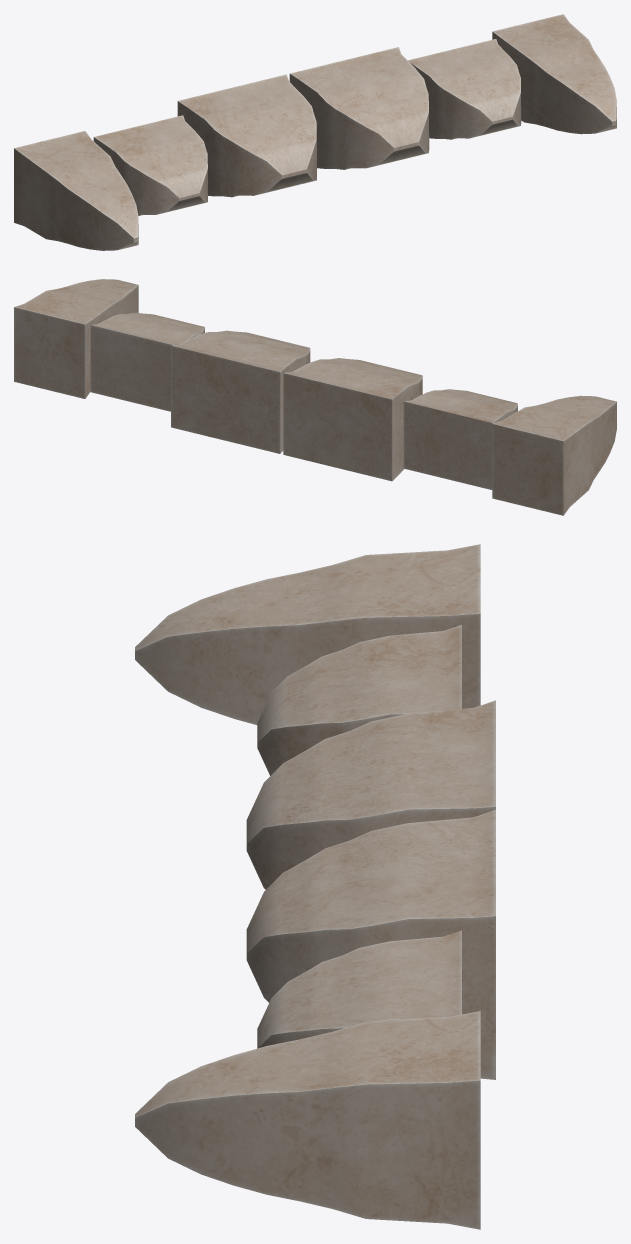
Rendered from ITM_DEFENSIVE_VAMPIRE TEETHS.fbx.
3 views of the same model, one above another, from view 1: azimuth 30°, elevation 25°; view 2: azimuth 150°, elevation 25°; view 3: azimuth 270°, elevation 25° (orthographic). The views are drawn at different scales.
Visible parts, largest first — view 1: teeth2, teeth1, fang, fang1, teeth3, teeth; view 2: teeth1, teeth2, fang, fang1, teeth, teeth3; view 3: fang1, fang, teeth2, teeth1, teeth, teeth3.
Part boxes in pixels (x1=…): teeth2: x1=289, y1=47, x2=429, y2=169; teeth1: x1=177, y1=74, x2=316, y2=197; fang: x1=14, y1=131, x2=138, y2=250; fang1: x1=492, y1=14, x2=616, y2=134; teeth3: x1=408, y1=39, x2=521, y2=139; teeth: x1=93, y1=115, x2=207, y2=215; teeth1: x1=283, y1=358, x2=422, y2=481; teeth2: x1=171, y1=330, x2=310, y2=453; fang: x1=492, y1=395, x2=616, y2=515; fang1: x1=14, y1=279, x2=138, y2=398; teeth: x1=403, y1=389, x2=517, y2=489; teeth3: x1=90, y1=312, x2=204, y2=411; fang1: x1=135, y1=1011, x2=480, y2=1229; fang: x1=135, y1=544, x2=480, y2=724; teeth2: x1=246, y1=810, x2=495, y2=1079; teeth1: x1=246, y1=700, x2=495, y2=889; teeth: x1=257, y1=625, x2=461, y2=775; teeth3: x1=257, y1=930, x2=461, y2=1048.
Bounding box in the file's own units: 59.53 × 8.47 × 16.92.
